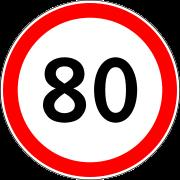Speed Limit -80-: (23, 30, 154, 154)
